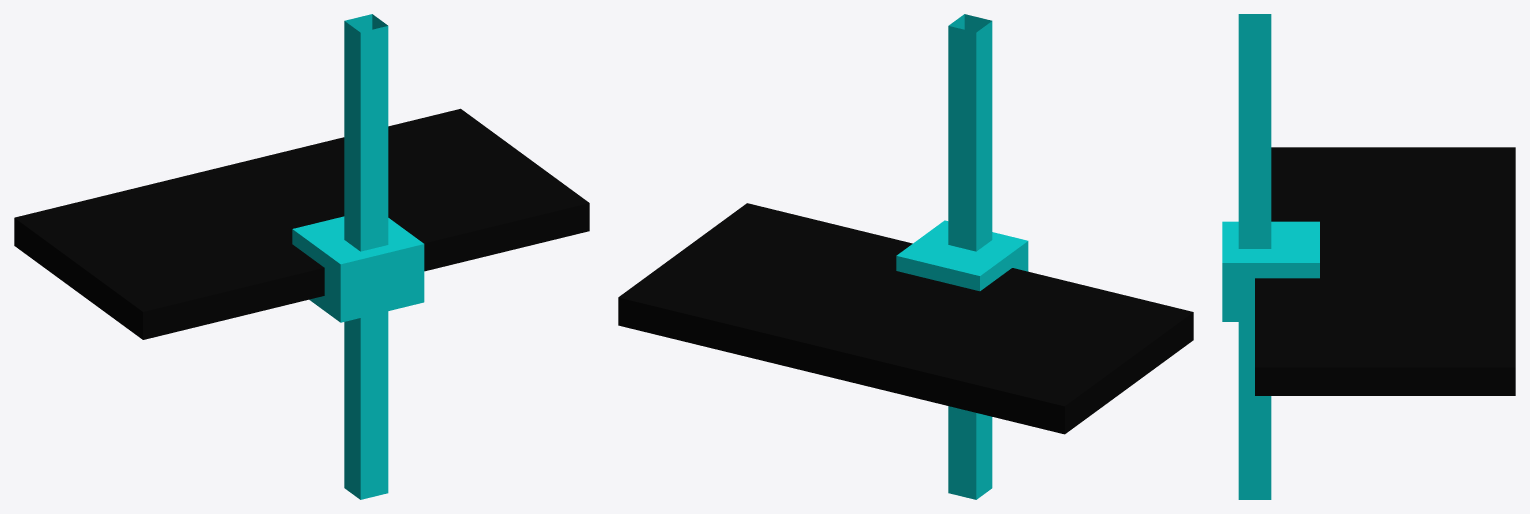
The model's file is BigStrut_P_E_P_E_P_E_P_E_BigStrut.fbx.
3 views of the same model, side by side, from view 1: azimuth 30°, elevation 25°; view 2: azimuth 150°, elevation 25°; view 3: azimuth 270°, elevation 25° (orthographic).
Parts seen in each view (by area): view 1: BigStrut_P_E_P_E_P_E_P_E_BigStrut; view 2: BigStrut_P_E_P_E_P_E_P_E_BigStrut; view 3: BigStrut_P_E_P_E_P_E_P_E_BigStrut.
Part boxes in pixels (box(x1,y1,x2,y2)): BigStrut_P_E_P_E_P_E_P_E_BigStrut: box(14, 14, 589, 499); BigStrut_P_E_P_E_P_E_P_E_BigStrut: box(618, 14, 1193, 499); BigStrut_P_E_P_E_P_E_P_E_BigStrut: box(1222, 14, 1515, 499).
Bounding box in the file's own units: 100 × 100 × 56.25.
